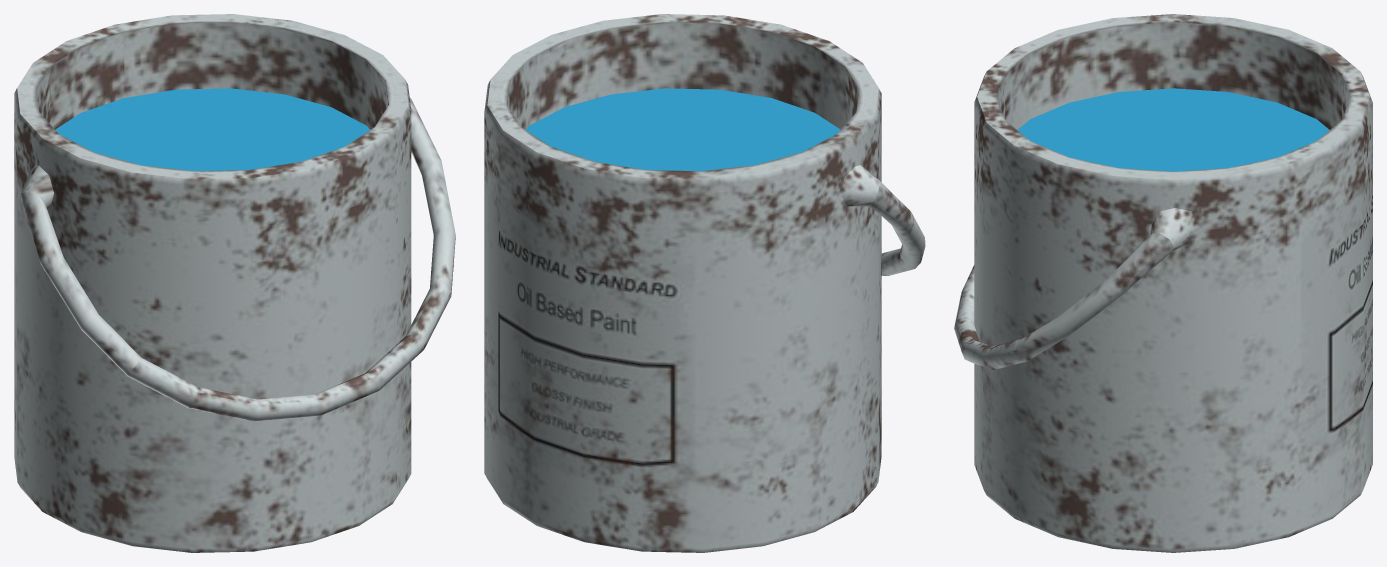
3 views of the same model, side by side, from view 1: azimuth 30°, elevation 25°; view 2: azimuth 150°, elevation 25°; view 3: azimuth 270°, elevation 25° (orthographic).
Parts seen in each view (by area): view 1: pCylinder15; view 2: pCylinder15; view 3: pCylinder15.
Part boxes in pixels (bbox=[...]): pCylinder15: bbox=[14, 14, 455, 552]; pCylinder15: bbox=[484, 14, 925, 552]; pCylinder15: bbox=[954, 14, 1372, 552].
Bounding box in the file's own units: 27.5 × 24.43 × 24.86.
1 material, 1 textured.
